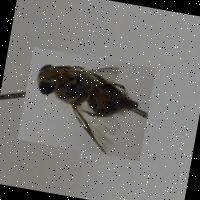Oriental-fruit-fly: (17, 46, 155, 160)
